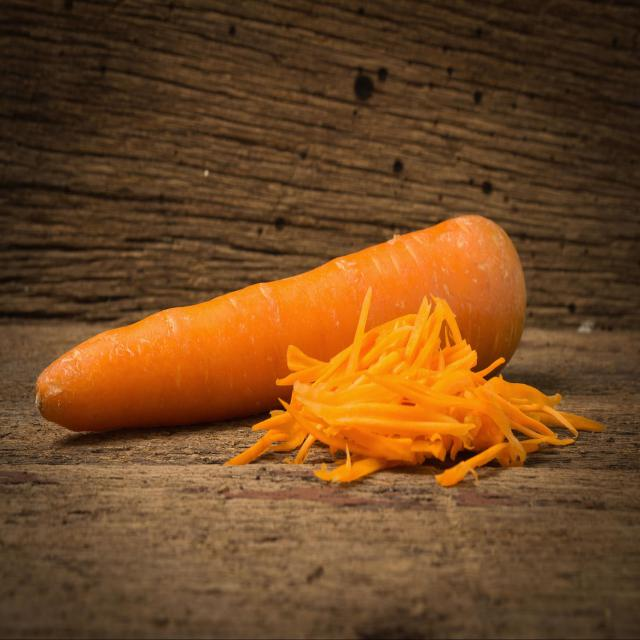carrot: (28, 207, 608, 499)
